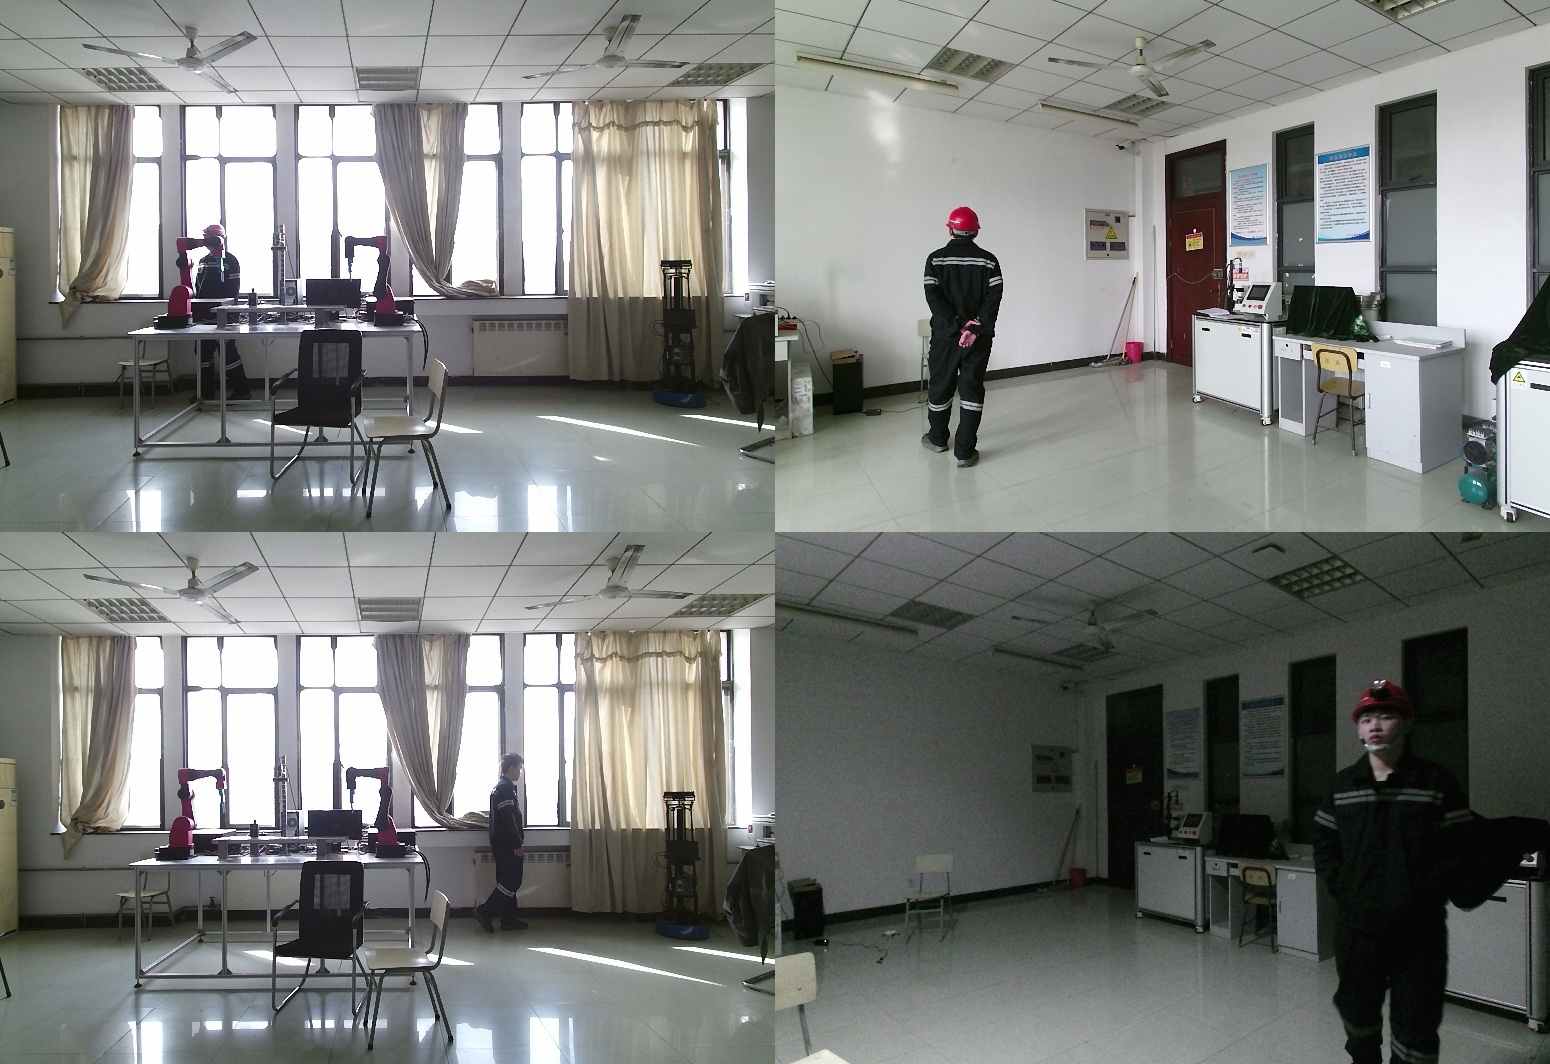person: (1300, 670, 1514, 1064), (918, 209, 1016, 466), (464, 752, 529, 940), (192, 224, 249, 405)
